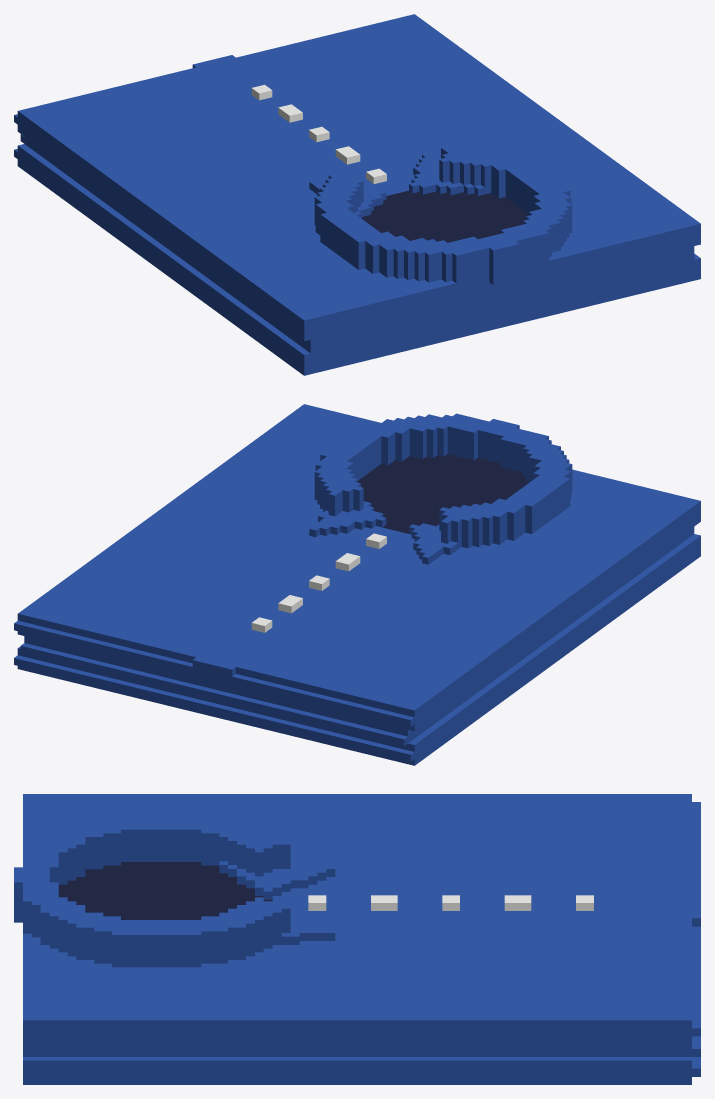
File: buttonshirt.glb
3 views of the same model, one above another, from view 1: azimuth 30°, elevation 25°; view 2: azimuth 150°, elevation 25°; view 3: azimuth 270°, elevation 25° (orthographic). The views are drawn at different scales.
Visible parts, largest first — view 1: buttonshirt:compound; view 2: buttonshirt:compound; view 3: buttonshirt:compound.
Part boxes in pixels (bbox=[...]): buttonshirt:compound: bbox=[14, 14, 700, 375]; buttonshirt:compound: bbox=[14, 404, 700, 765]; buttonshirt:compound: bbox=[14, 794, 700, 1084].
Size of the model in its own units: 0.24 by 0.048 by 0.308.
